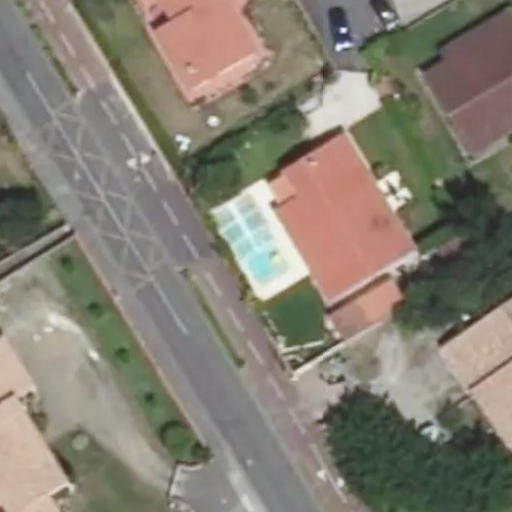pool: (219, 217, 292, 266)
